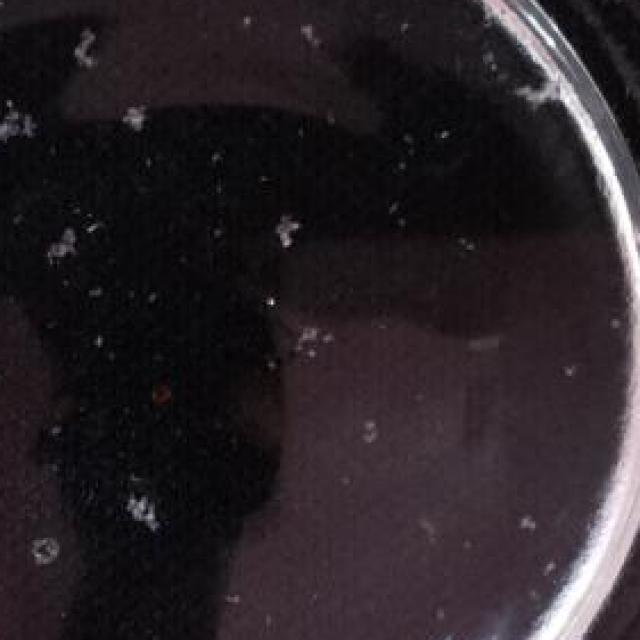Microplastic: (111, 488, 176, 542), (517, 57, 579, 112), (0, 85, 43, 164), (57, 17, 105, 71), (30, 231, 84, 278), (25, 526, 66, 566), (118, 90, 150, 134), (278, 212, 303, 247)
